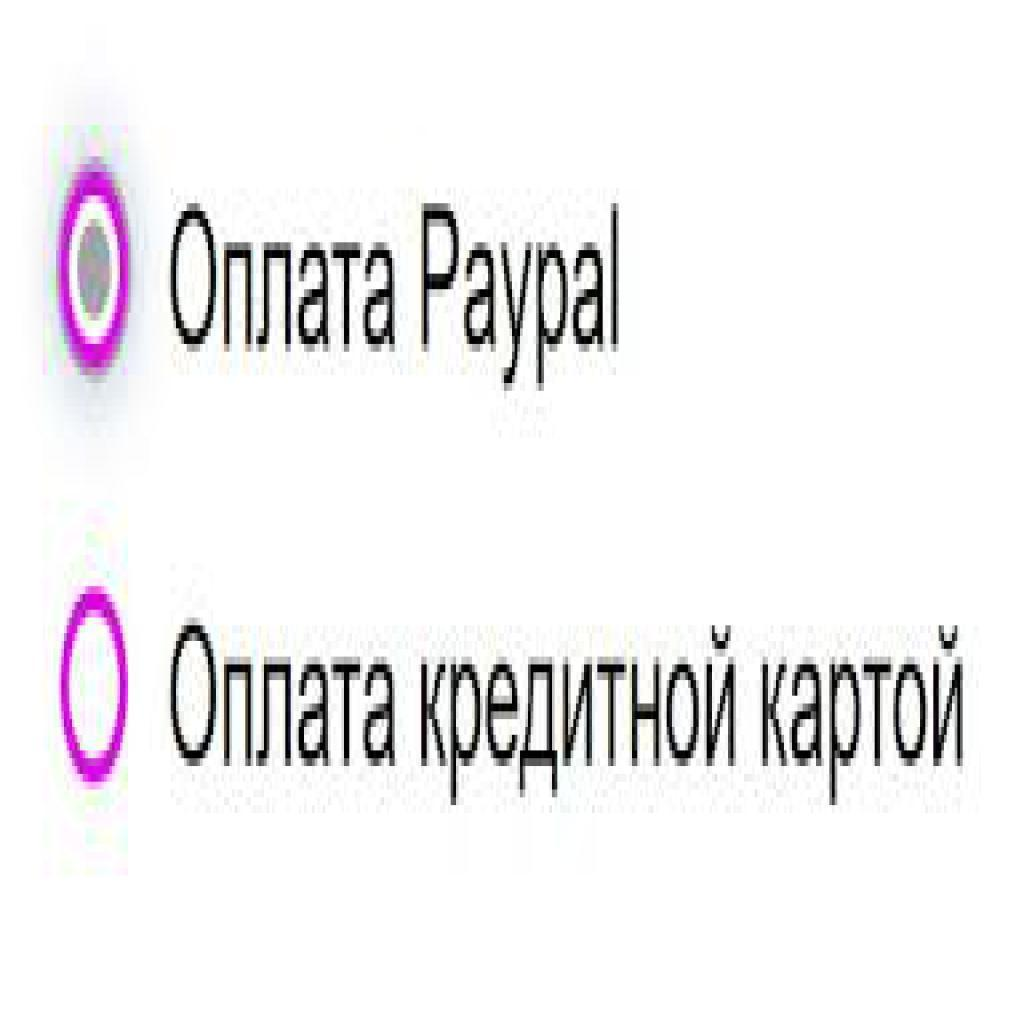label: (167, 612, 975, 796), (165, 195, 631, 371)
radio: (54, 162, 132, 385), (55, 588, 138, 782)
